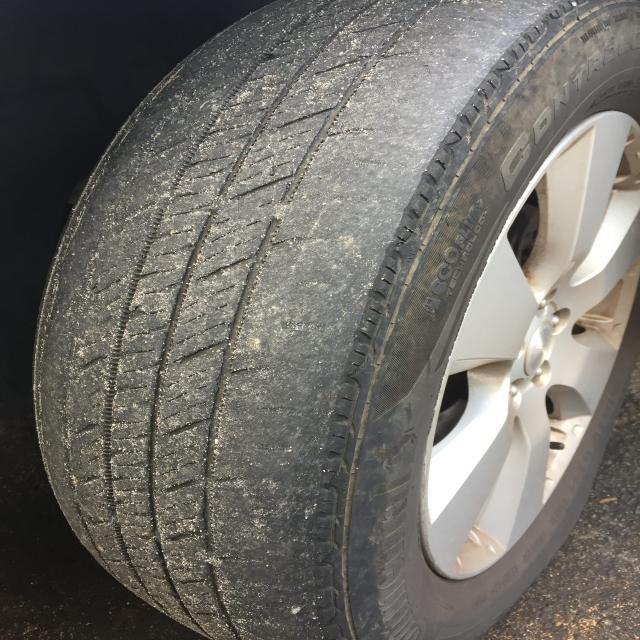Flat spots: (38, 279, 350, 612), (86, 177, 390, 268), (156, 85, 442, 160), (213, 4, 496, 75)
